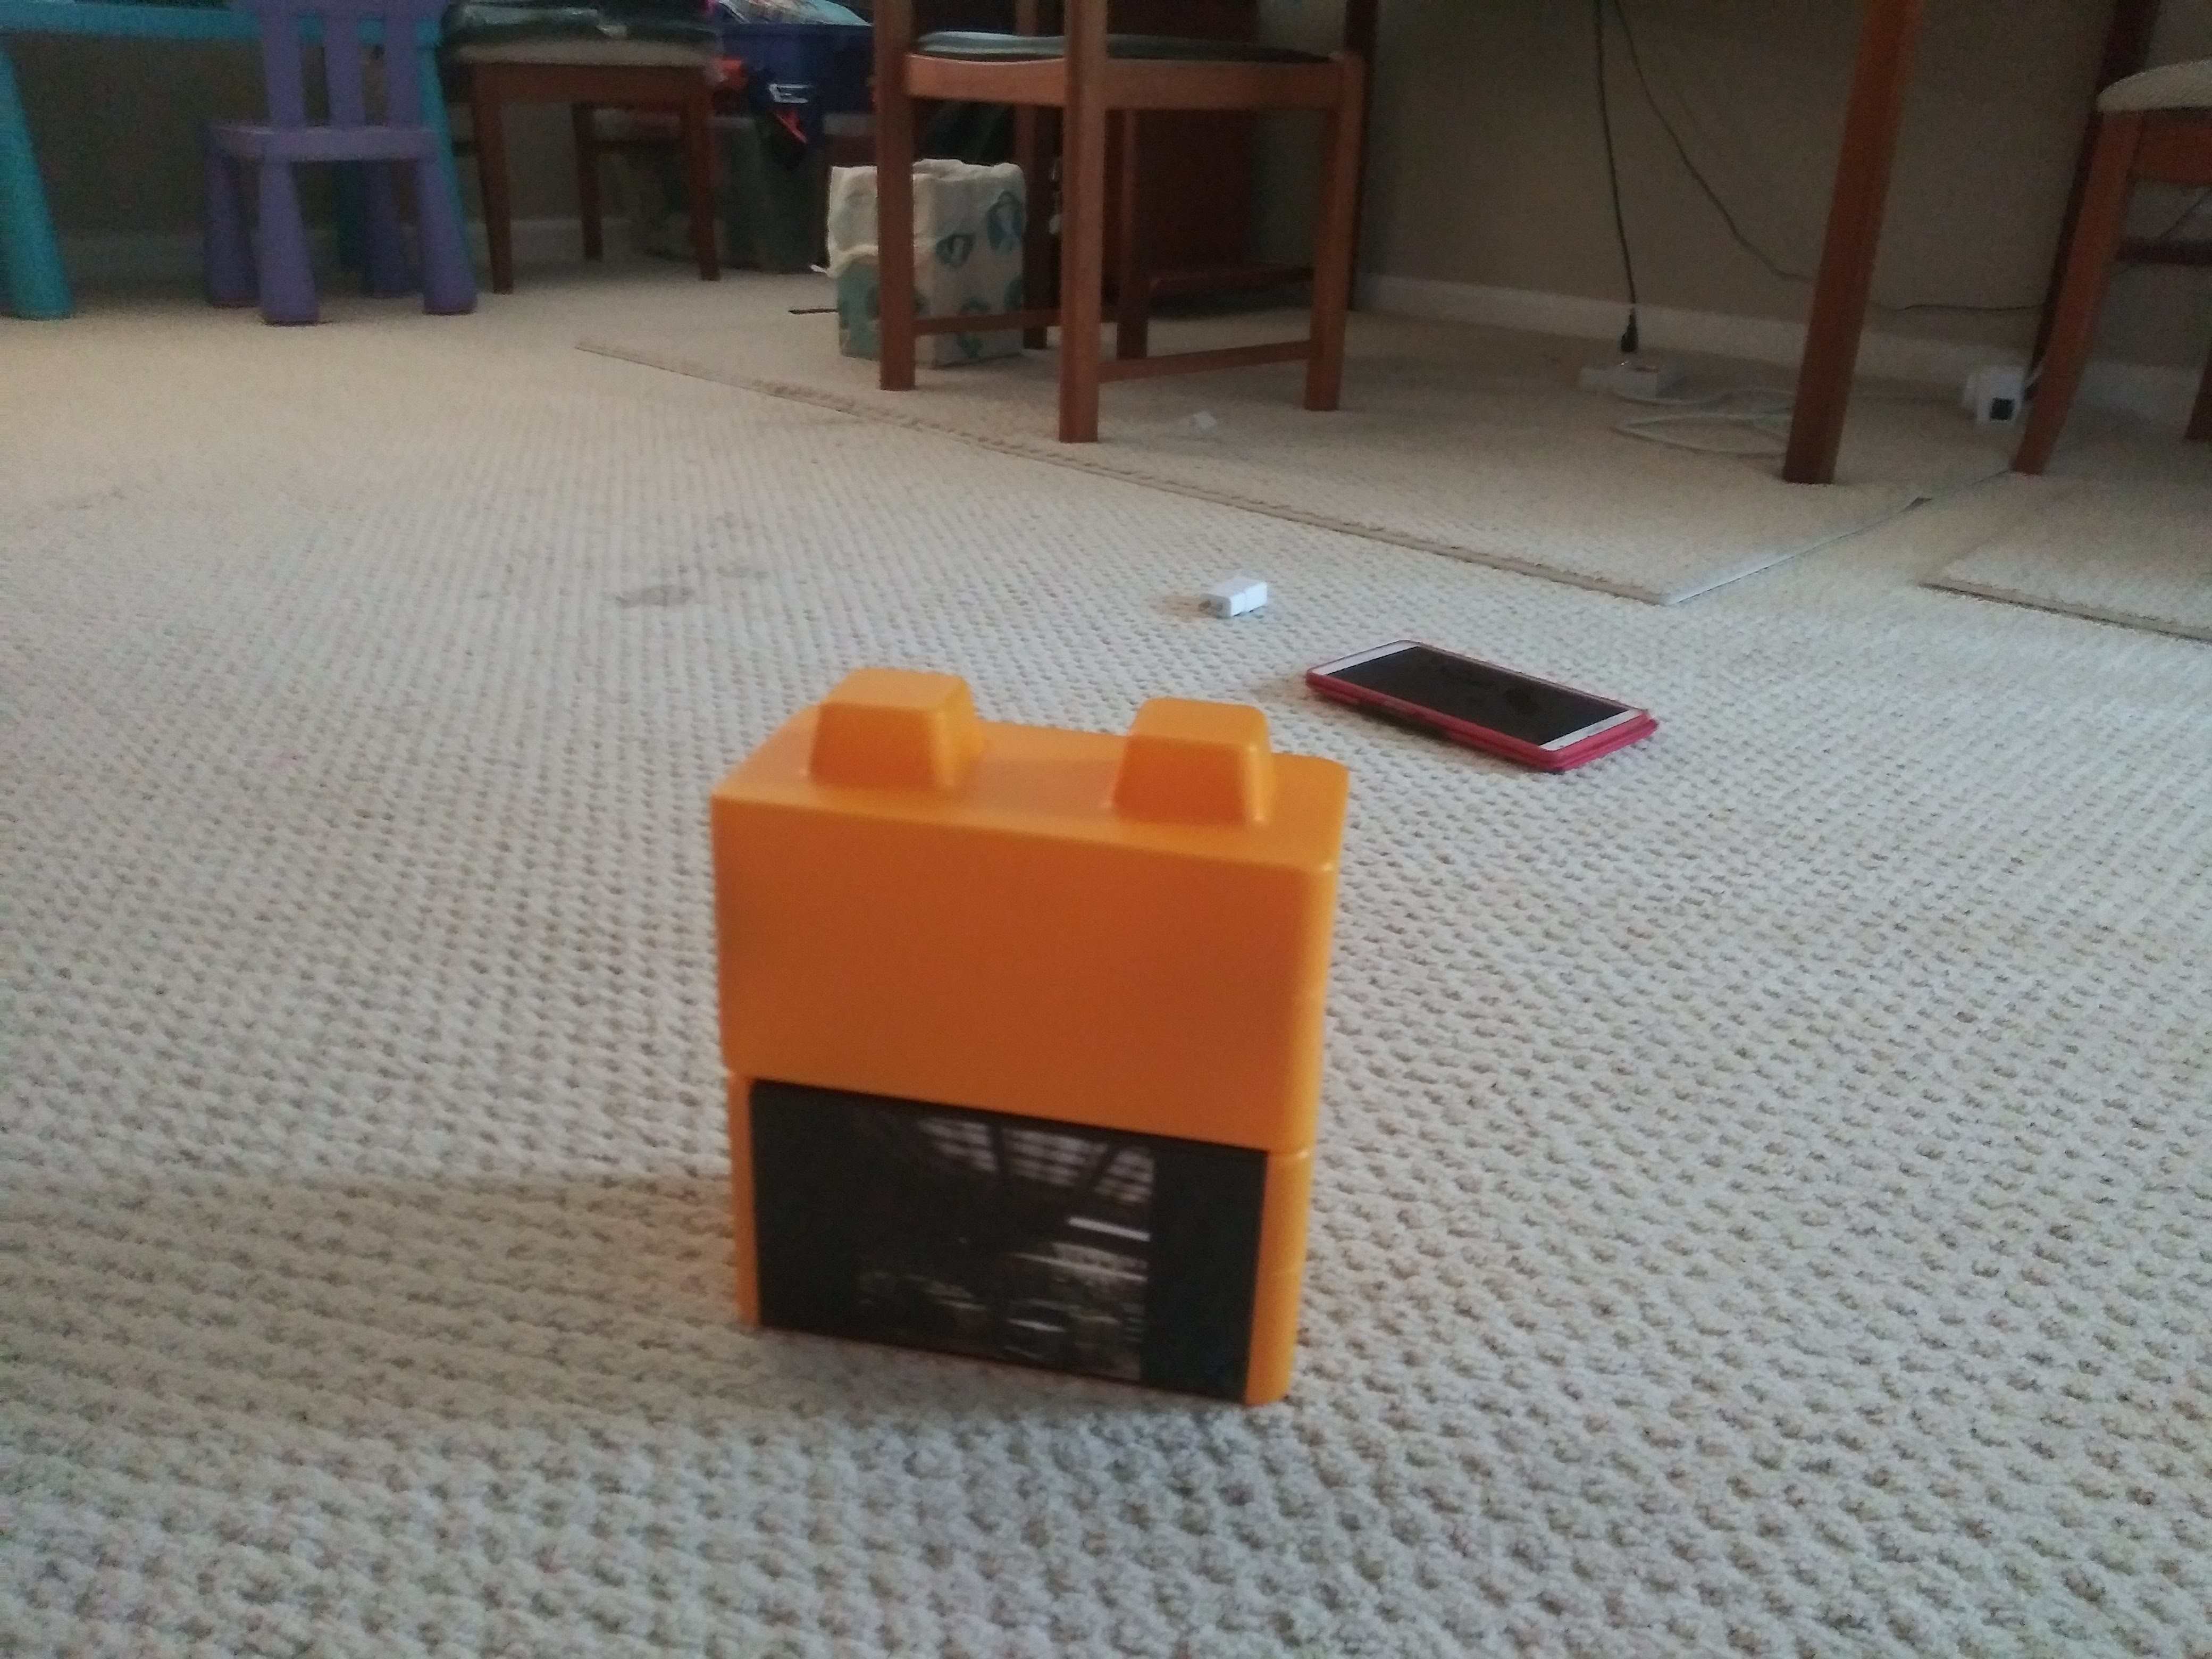skystone: (725, 1096, 1294, 1403)
stone: (730, 718, 1322, 1117)
